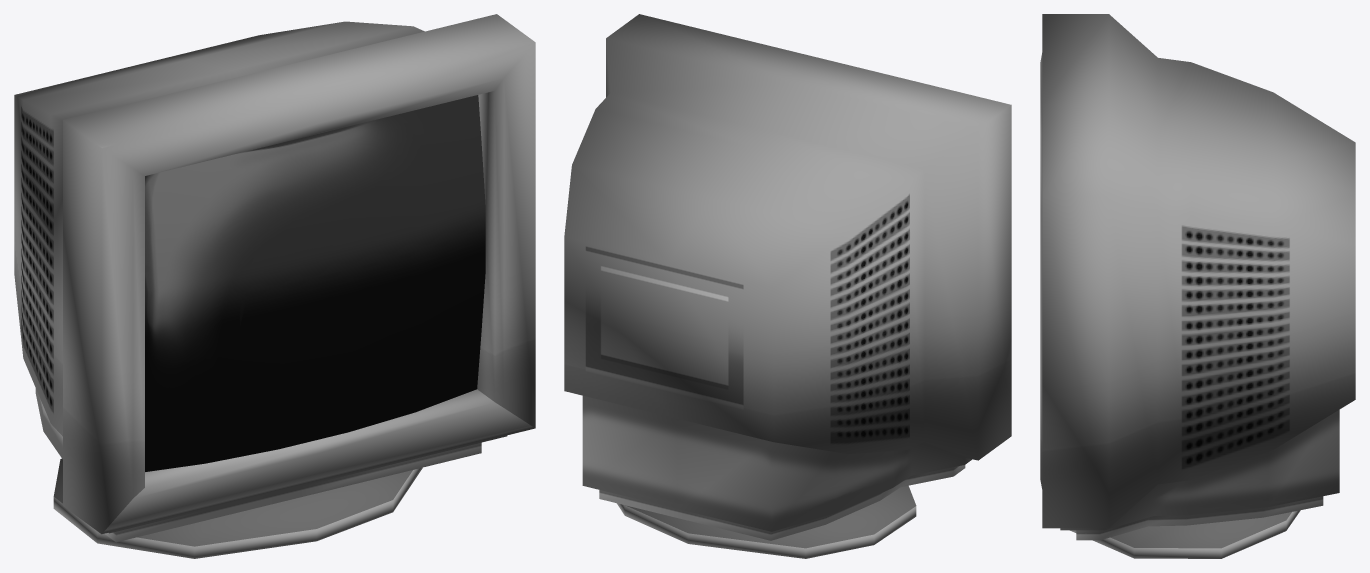
File: Monitor.fbx
3 renders of one model, left to right at view 1: azimuth 30°, elevation 25°; view 2: azimuth 150°, elevation 25°; view 3: azimuth 270°, elevation 25°, orthographic. The views are drawn at different scales.
Visible parts, largest first — view 1: Cube; view 2: Cube; view 3: Cube.
Boxes of the visible parts, x1,y1,x2,y2 form: Cube: (14,14,535,558); Cube: (564,14,1011,558); Cube: (1040,14,1355,558).
Size of the model in its own units: 275 by 273 by 201.
Materials: 1 (1 with a texture image).
